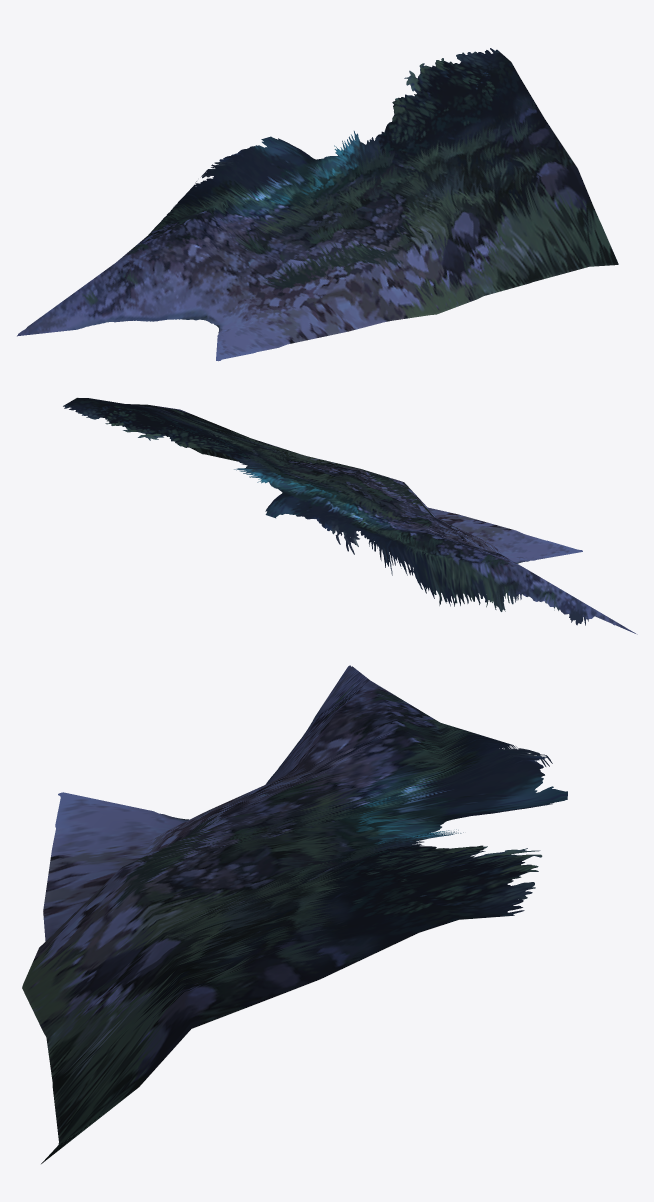
The model's file is HuBian_NightTree02_FBX.FBX.
The picture shows the model from 3 angles, top to bottom: view 1: azimuth 30°, elevation 25°; view 2: azimuth 150°, elevation 25°; view 3: azimuth 270°, elevation 25°; orthographic projection. The views are drawn at different scales.
Parts seen in each view (by area): view 1: HuBian_NightTree02_FBX; view 2: HuBian_NightTree02_FBX; view 3: HuBian_NightTree02_FBX.
Boxes of the visible parts, x1=… form: HuBian_NightTree02_FBX: x1=17, y1=48, x2=618, y2=361; HuBian_NightTree02_FBX: x1=63, y1=397, x2=637, y2=634; HuBian_NightTree02_FBX: x1=22, y1=665, x2=567, y2=1163.
Bounding box in the file's own units: 14.77 × 3.62 × 7.54.
